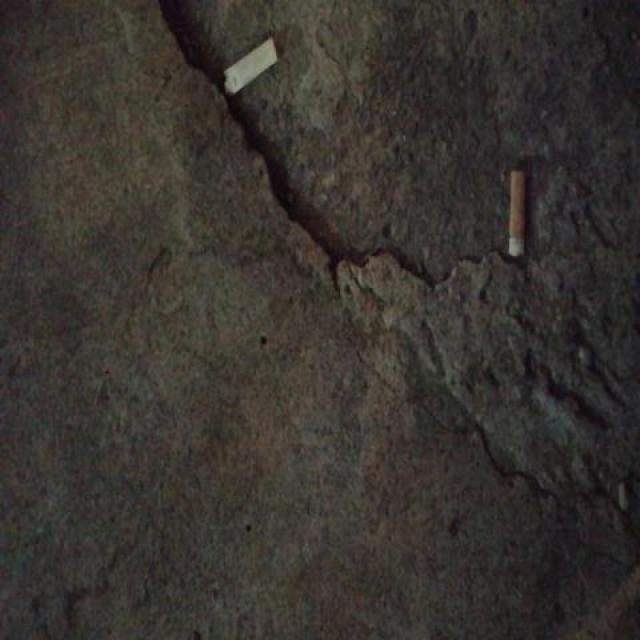non-organic waste: (222, 34, 282, 102), (506, 167, 531, 261)
